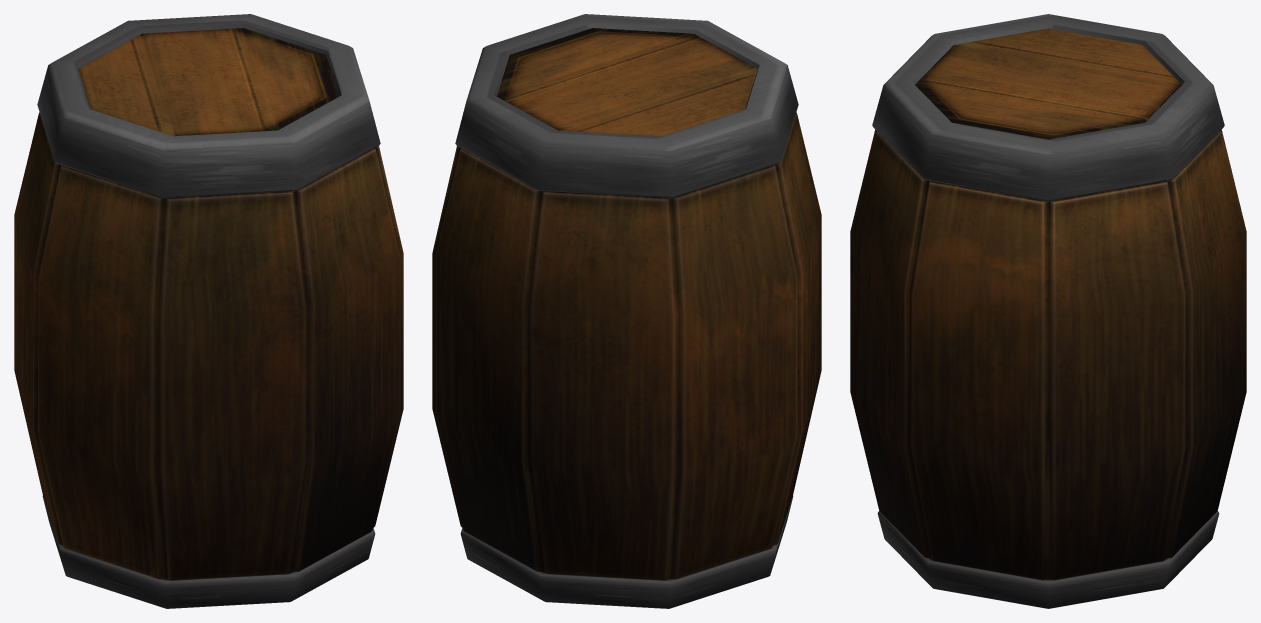
Rendered from stylized_low_poly_wooden_barrell.glb.
The picture shows the model from 3 angles, left to right: view 1: azimuth 30°, elevation 25°; view 2: azimuth 150°, elevation 25°; view 3: azimuth 270°, elevation 25°; orthographic projection.
Parts seen in each view (by area): view 1: Cylinder; view 2: Cylinder; view 3: Cylinder.
Part boxes in pixels (x1,y1,x2,y2): Cylinder: (14,14,403,608); Cylinder: (432,14,821,608); Cylinder: (850,14,1246,608).
Bounding box in the file's own units: 78.52 × 100 × 78.52.
Materials: 1 (1 with a texture image).
